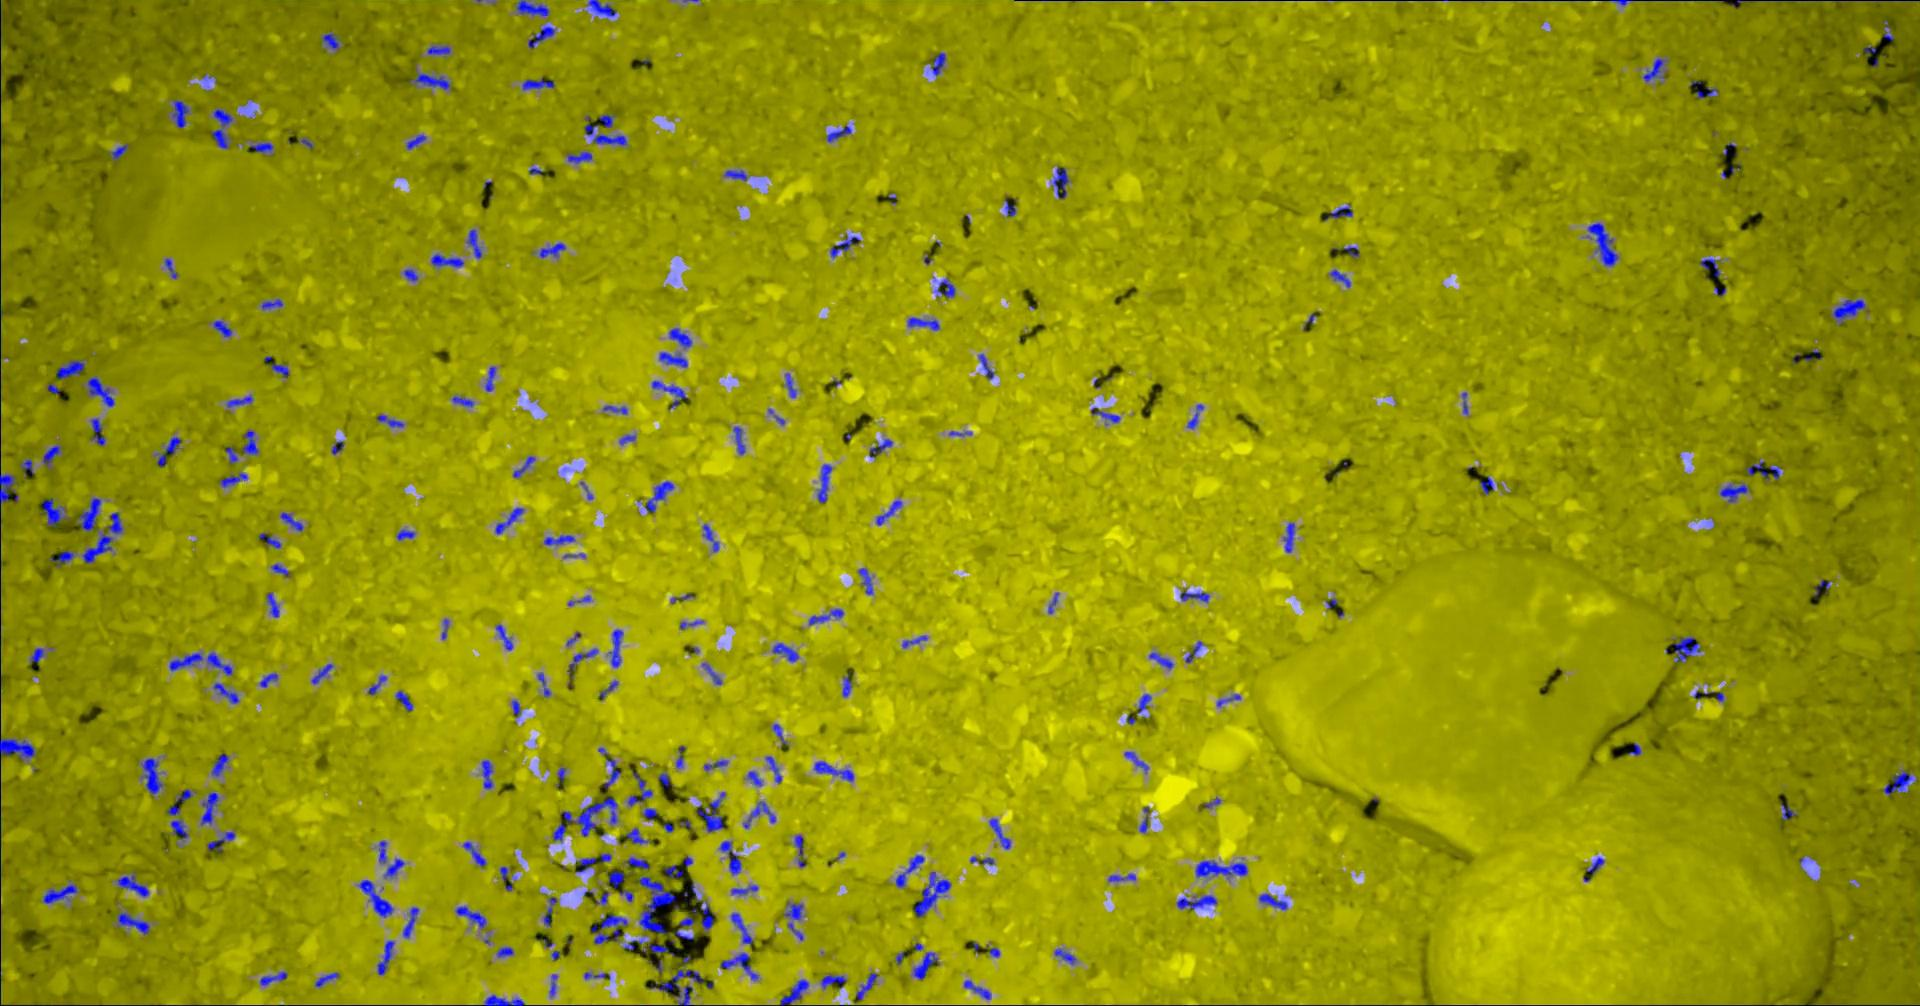ant: (640, 876, 681, 934), (563, 796, 618, 836), (648, 968, 705, 1005), (84, 512, 124, 563), (916, 871, 952, 917), (170, 652, 232, 674), (1589, 222, 1620, 265), (361, 879, 395, 917), (585, 116, 629, 145), (698, 791, 728, 831), (723, 951, 759, 981), (592, 915, 629, 942), (653, 380, 688, 408), (569, 648, 599, 680), (897, 854, 926, 887), (599, 747, 622, 788), (681, 902, 715, 929), (646, 481, 676, 512), (744, 801, 777, 828), (629, 772, 654, 807), (1197, 860, 1250, 876), (88, 376, 116, 406), (1, 735, 36, 760), (213, 108, 234, 149), (1834, 298, 1865, 324), (815, 761, 855, 781), (157, 436, 183, 466), (142, 758, 164, 794), (79, 497, 102, 530), (42, 498, 69, 526), (497, 507, 524, 533), (1884, 768, 1912, 795), (781, 979, 810, 1005), (721, 840, 743, 874), (731, 913, 756, 944), (118, 912, 151, 934), (169, 788, 194, 815), (457, 906, 488, 929), (118, 874, 150, 895), (1675, 636, 1702, 662), (785, 903, 804, 939), (916, 951, 940, 979), (411, 72, 452, 89), (44, 883, 77, 903), (830, 235, 861, 257), (990, 818, 1012, 848), (877, 500, 903, 525), (463, 841, 488, 866), (530, 25, 556, 48), (378, 940, 396, 974), (857, 972, 879, 1000), (208, 831, 237, 851), (202, 793, 220, 824), (610, 629, 625, 666), (57, 359, 86, 379), (265, 354, 290, 377), (819, 464, 833, 503), (1178, 895, 1218, 909), (1, 473, 19, 503), (517, 0, 551, 15), (1644, 58, 1667, 81), (514, 455, 537, 478), (810, 608, 844, 624), (1126, 751, 1150, 772), (215, 682, 240, 702), (773, 641, 800, 661), (588, 0, 618, 17), (404, 907, 420, 937), (1721, 483, 1749, 500), (965, 981, 993, 998), (1055, 166, 1070, 198), (1324, 203, 1354, 220), (660, 351, 690, 367), (1260, 893, 1289, 909), (497, 624, 514, 650), (670, 326, 693, 347), (174, 99, 190, 127), (1092, 406, 1121, 422), (433, 253, 465, 267), (703, 525, 720, 551), (767, 756, 783, 782), (312, 663, 334, 683), (871, 438, 894, 457), (828, 124, 853, 141), (1189, 403, 1205, 428), (44, 445, 63, 466), (282, 512, 303, 531), (385, 857, 406, 876), (469, 229, 483, 258), (930, 52, 947, 75), (91, 418, 107, 445), (243, 431, 260, 453), (1749, 461, 1771, 479), (909, 318, 941, 330), (486, 995, 526, 1005), (1150, 652, 1175, 668), (540, 243, 568, 257), (221, 473, 249, 486), (860, 567, 874, 594), (980, 353, 996, 379), (1181, 589, 1211, 602), (703, 663, 723, 683), (171, 819, 190, 840), (545, 895, 557, 926), (1331, 269, 1352, 287), (213, 753, 230, 776), (262, 970, 288, 984), (822, 974, 848, 988), (51, 550, 75, 565), (524, 77, 556, 89), (1702, 258, 1721, 277), (545, 533, 577, 545), (370, 674, 389, 694), (1187, 640, 1204, 662), (397, 690, 414, 711), (627, 827, 649, 843), (316, 972, 342, 986), (1285, 522, 1297, 553), (938, 279, 957, 297), (378, 414, 405, 427), (610, 870, 629, 888), (538, 672, 552, 696), (796, 835, 806, 868), (483, 760, 494, 789), (260, 532, 282, 547), (734, 426, 745, 453), (775, 723, 789, 746), (408, 133, 428, 149), (1057, 948, 1077, 963), (229, 394, 253, 406), (903, 635, 930, 647), (577, 857, 598, 871), (323, 33, 340, 50), (215, 320, 232, 337), (1589, 856, 1605, 874), (110, 144, 130, 159), (268, 592, 279, 617), (731, 884, 759, 894), (569, 151, 593, 163), (786, 373, 797, 398), (166, 257, 179, 278), (262, 672, 279, 687), (1783, 803, 1798, 821), (1138, 694, 1152, 713), (665, 864, 684, 878), (1697, 86, 1719, 98), (629, 856, 651, 868), (1815, 579, 1831, 594), (554, 823, 568, 841), (643, 942, 670, 951), (726, 169, 748, 180), (453, 395, 475, 406), (251, 142, 276, 152), (705, 760, 729, 770), (272, 563, 291, 575), (1110, 873, 1137, 882), (429, 44, 452, 55), (660, 772, 676, 788), (22, 459, 36, 475), (1481, 476, 1495, 493), (1006, 198, 1018, 216), (488, 366, 497, 391), (226, 446, 239, 464), (1142, 807, 1150, 832), (263, 298, 284, 309), (677, 746, 687, 767), (604, 405, 629, 414), (30, 647, 44, 662), (844, 673, 853, 696), (380, 840, 389, 862), (585, 972, 612, 979), (749, 771, 763, 785), (599, 114, 615, 127), (397, 528, 417, 539), (971, 856, 996, 864), (498, 946, 516, 956), (644, 807, 658, 819), (1345, 246, 1361, 257), (333, 441, 345, 453), (405, 268, 419, 279), (513, 699, 522, 716), (1865, 0, 1920, 3)
